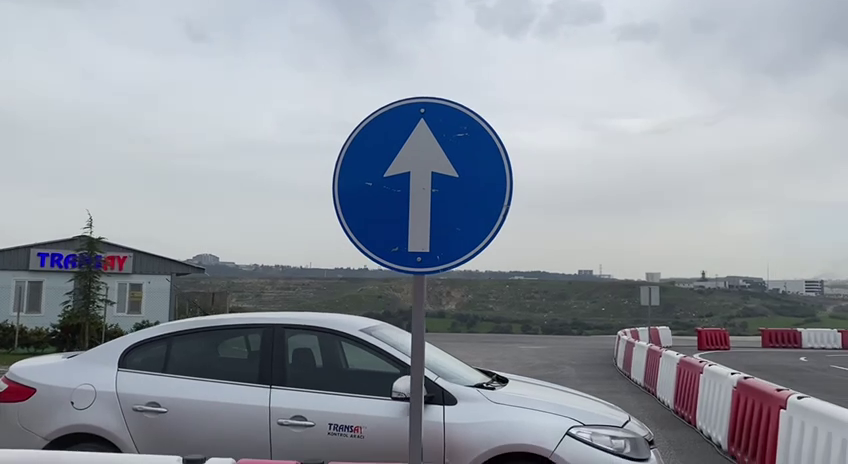forward: (324, 87, 519, 281)
